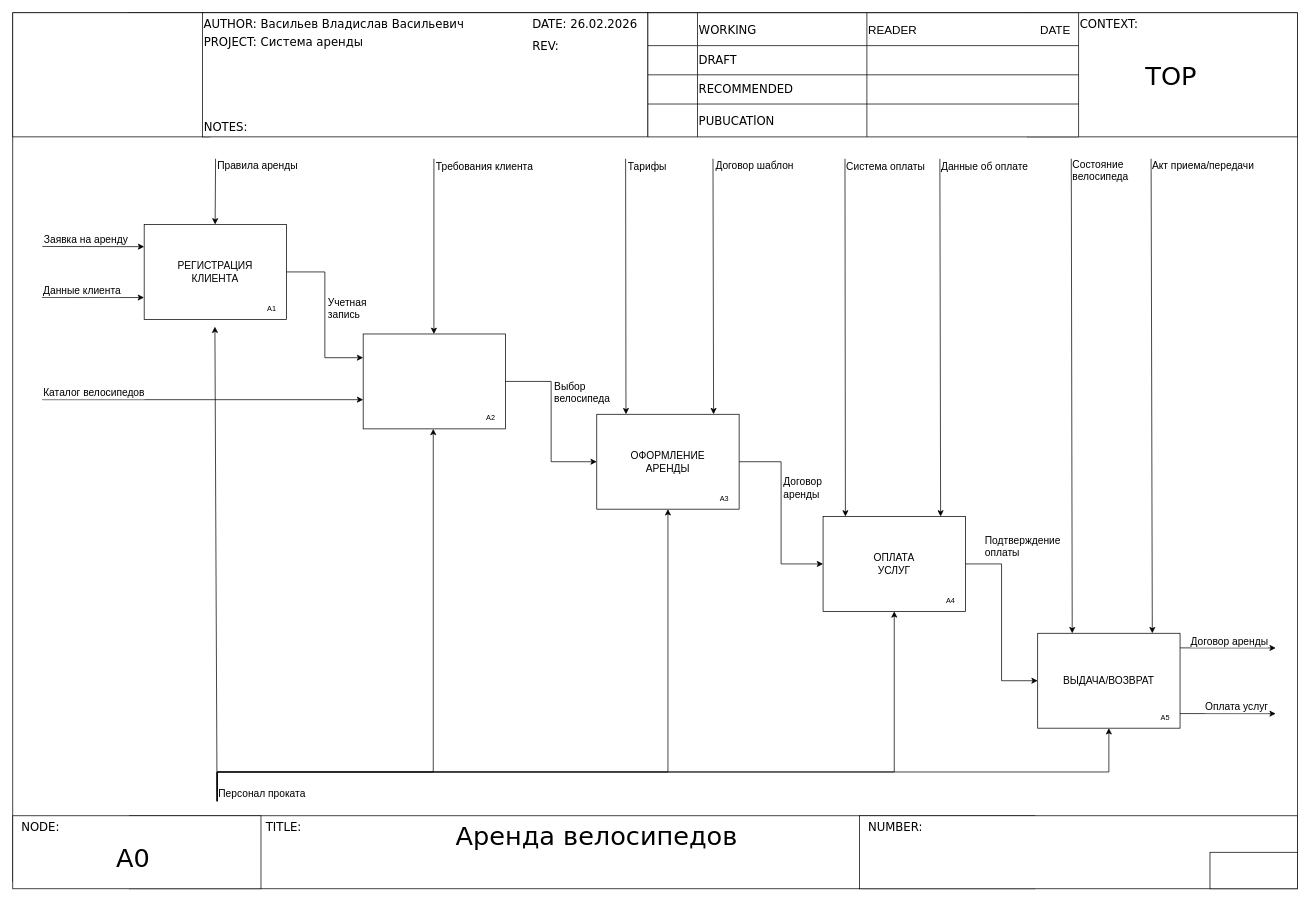
Image size: 1310x902. Some labels were removed from this diagram. The shapes that lost their labels are listed below. From the top down, each one's box as (x1, y1, x2, y2) in pixels, then its label:
(12, 12, 210, 137): USET AT:
(362, 333, 506, 429): ПОДБОР ВЕЛОСИПЕДА
